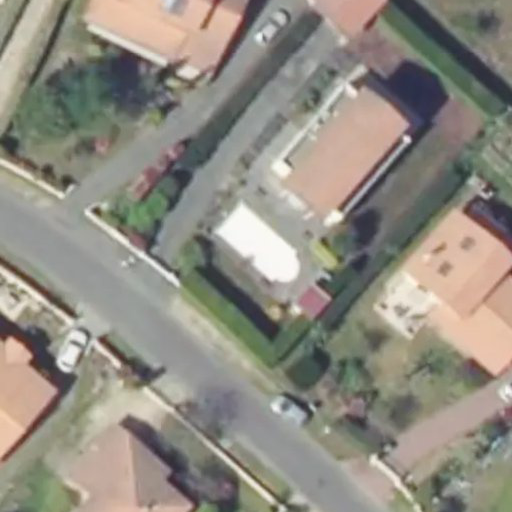pool: (212, 231, 307, 262)
